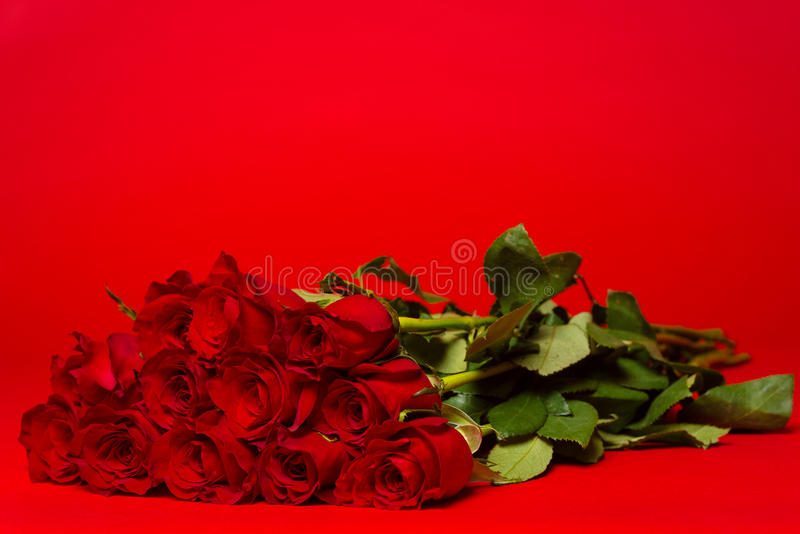RedRose: (340, 422, 485, 511), (277, 284, 410, 373), (142, 420, 265, 507)
